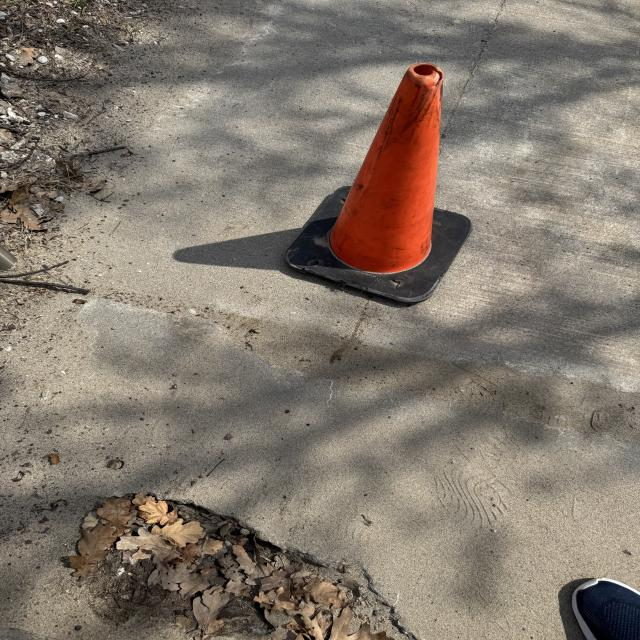Traffic Cone: (279, 61, 481, 304)
